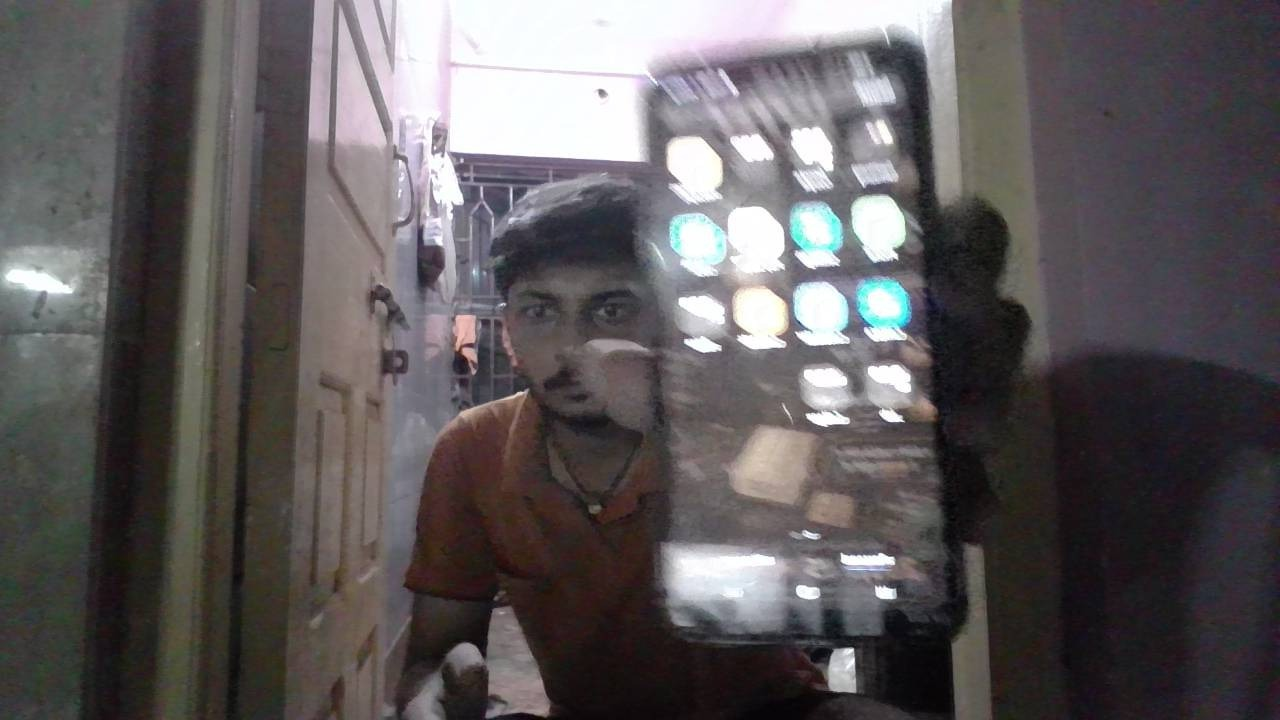red_box: (429, 413, 550, 562), (419, 486, 458, 547)
